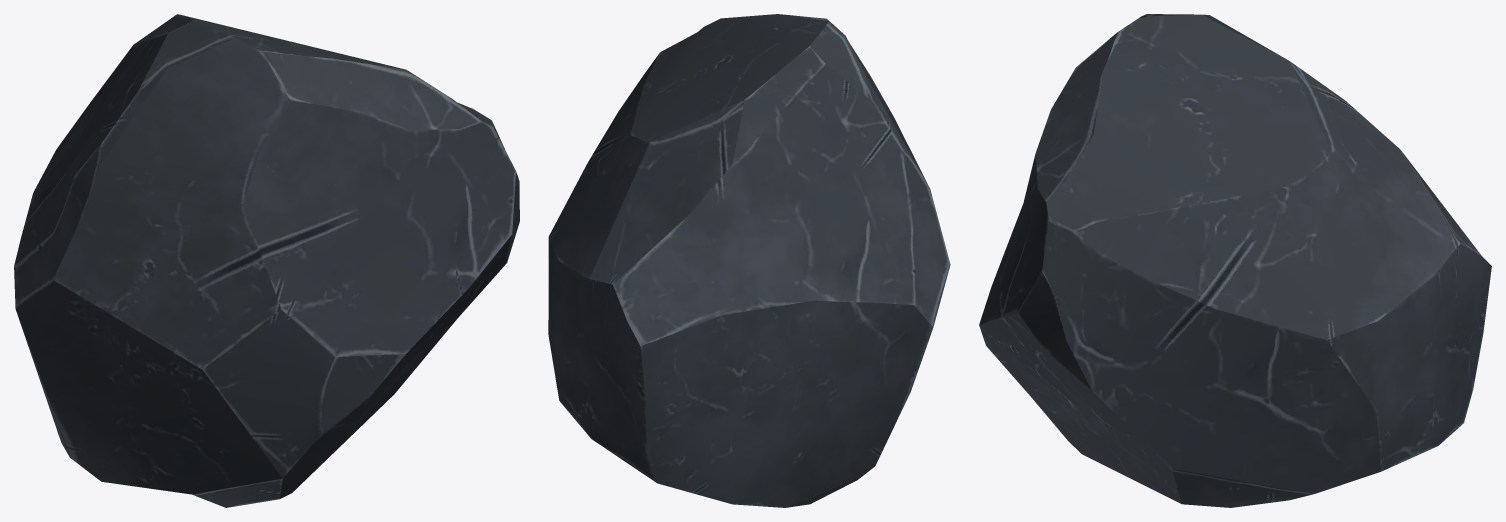
File: rock.glb
The picture shows the model from 3 angles, left to right: view 1: azimuth 30°, elevation 25°; view 2: azimuth 150°, elevation 25°; view 3: azimuth 270°, elevation 25°; orthographic projection. The views are drawn at different scales.
Visible parts, largest first — view 1: lp_Material.001_0; view 2: lp_Material.001_0; view 3: lp_Material.001_0.
Part boxes in pixels (box(x1,y1,x2,y2)): lp_Material.001_0: box(14, 14, 519, 507); lp_Material.001_0: box(548, 14, 950, 507); lp_Material.001_0: box(979, 14, 1491, 507).
Bounding box in the file's own units: 3.08 × 3.38 × 3.4.
Materials: 1 (1 with a texture image).
